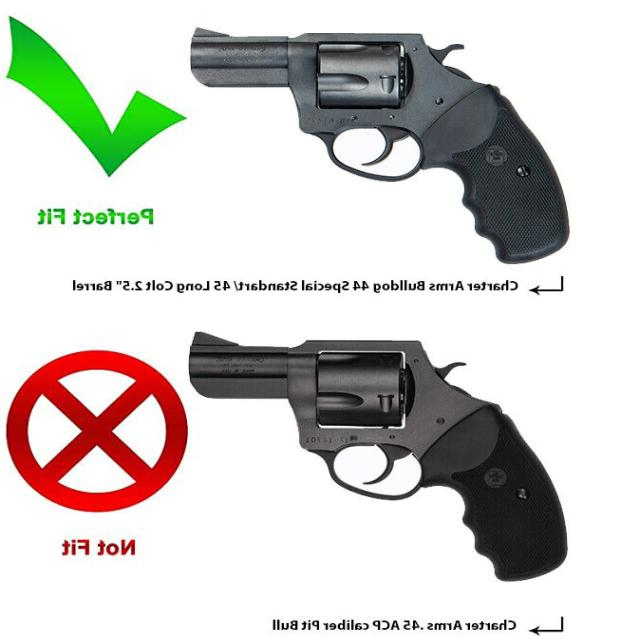Gun: (156, 19, 584, 285)
